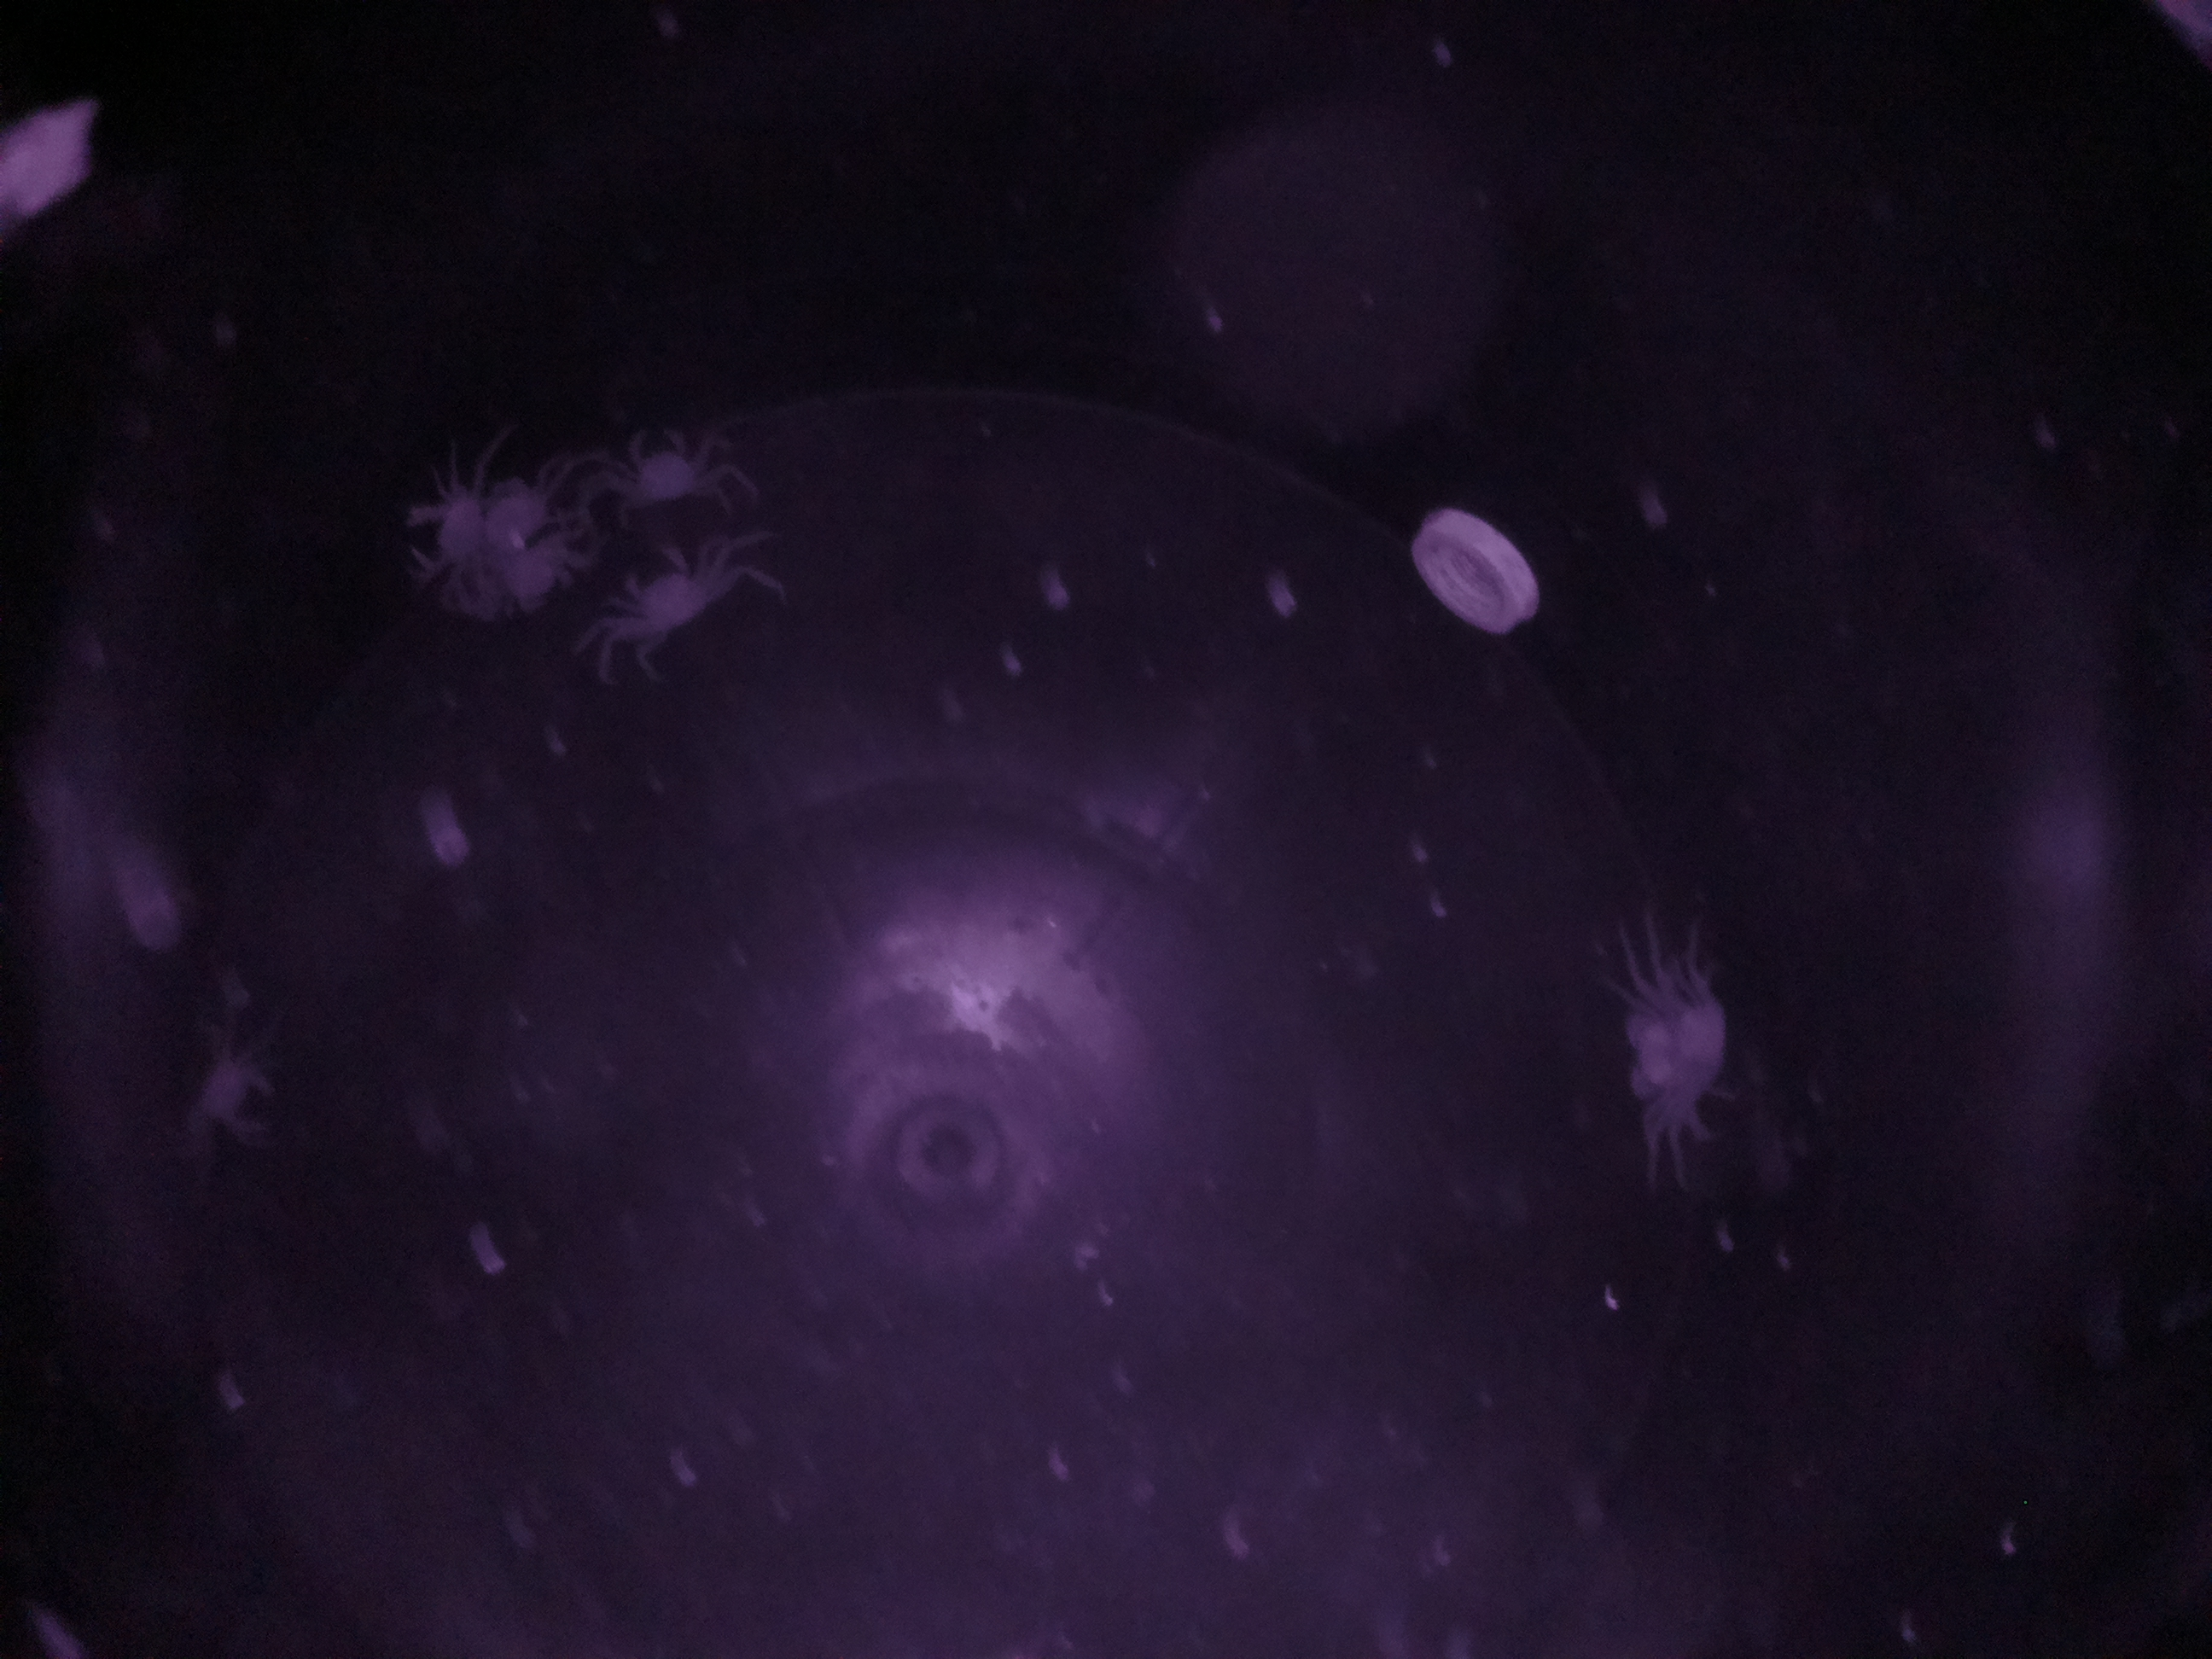Crab: (615, 532, 740, 660)
